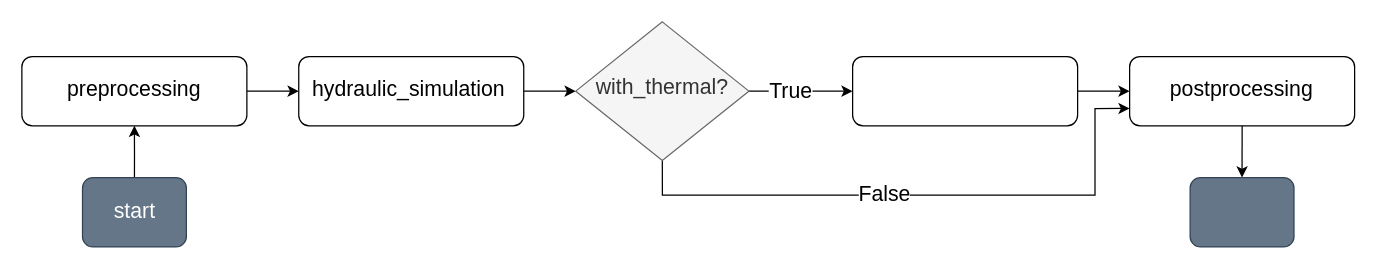
This 1378x269 diagram has some shape labels left out. Each missing label, with the box of its shape:
end: (1189, 176, 1294, 247)
thermal_simulation: (851, 55, 1078, 126)
